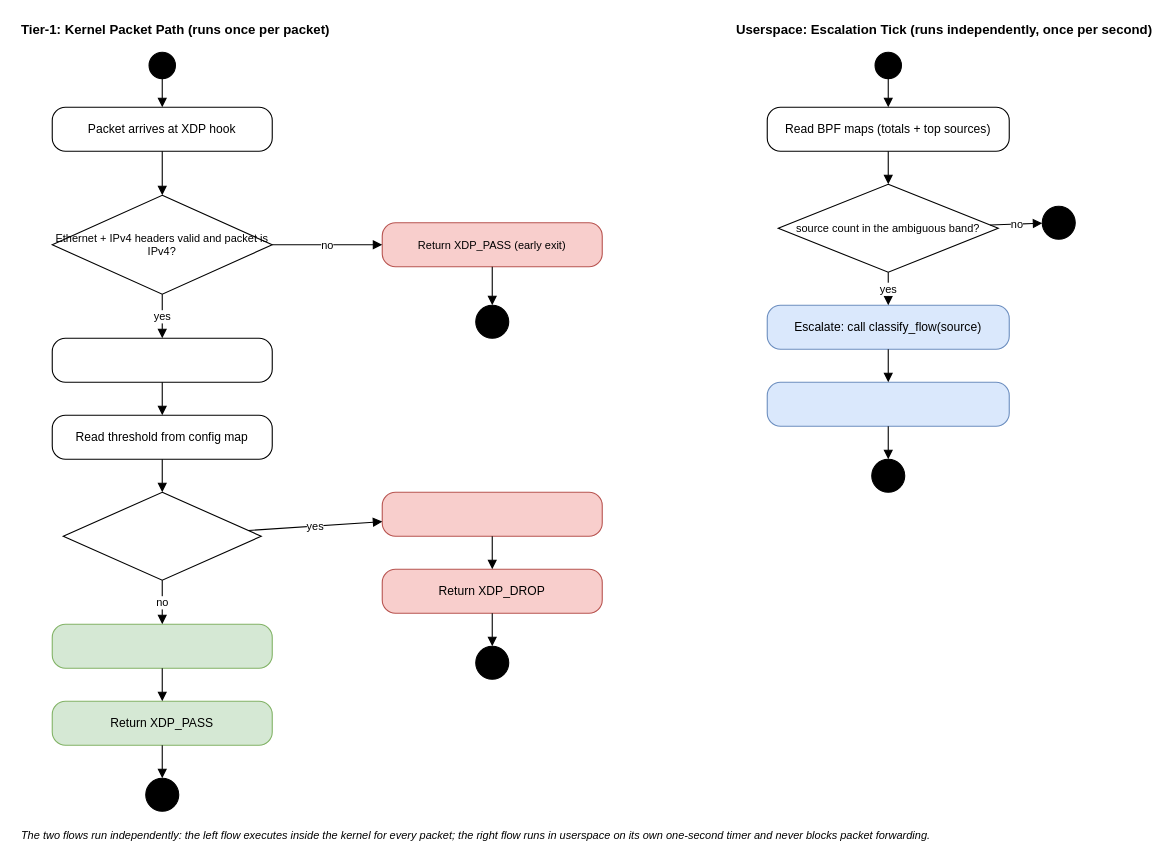
This 1170x862 diagram has some shape labels left out. The shapes that lost their labels are listed below. From the top down, each one's centre as x and y in pixels, then its label:
(161,359): Increment ip_count[src]
(887,403): Record ml event (label, score)
(491,513): Increment dropped tally
(161,535): count >= threshold?
(161,645): Increment passed tally
